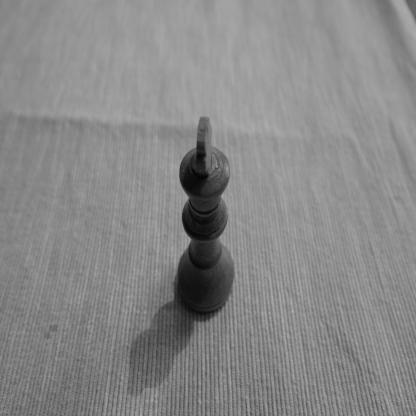white-king: (176, 115, 235, 318)
